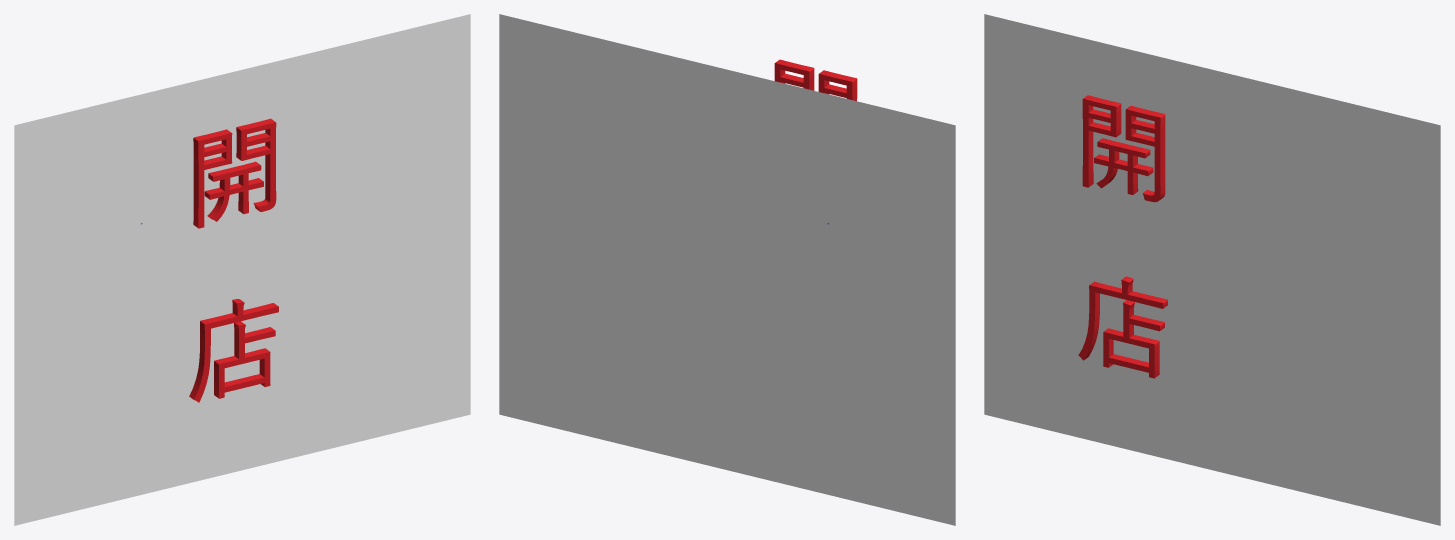
Rendered from kaiten.fbx.
3 views of the same model, side by side, from view 1: azimuth 30°, elevation 25°; view 2: azimuth 150°, elevation 25°; view 3: azimuth 330°, elevation 25° (orthographic).
Visible parts, largest first — view 1: root, node_id66 (×2); view 2: root, node_id66; view 3: root, node_id66 (×2).
Part boxes in pixels (bbox=[...]): root: bbox=[14, 14, 470, 525]; node_id66 (×2): bbox=[189, 118, 278, 402]; root: bbox=[499, 14, 955, 525]; node_id66: bbox=[774, 59, 857, 101]; root: bbox=[984, 14, 1440, 525]; node_id66 (×2): bbox=[1078, 95, 1167, 378].
Bounding box in the file's own units: 1.63 × 1.37 × 0.2651.
Materials: 3 (1 with a texture image).
